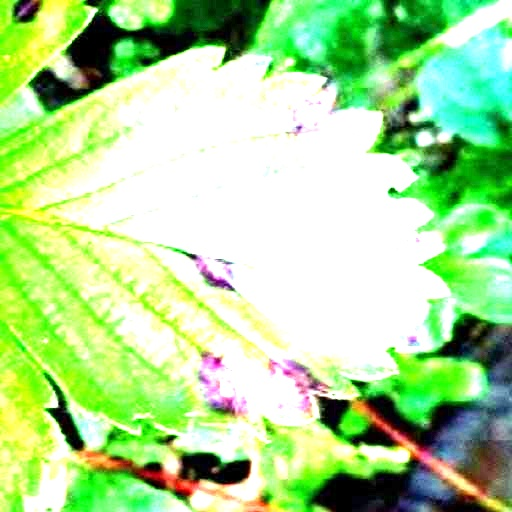Leaf Spot: (0, 45, 452, 444)
